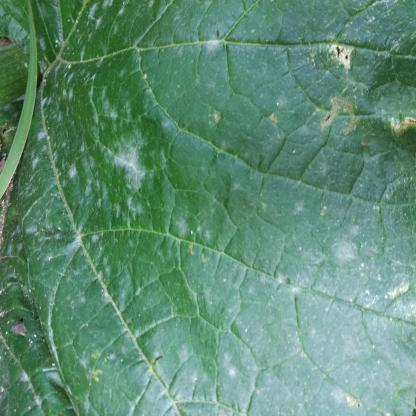squash powdery mildew leaf: (2, 0, 416, 409)
